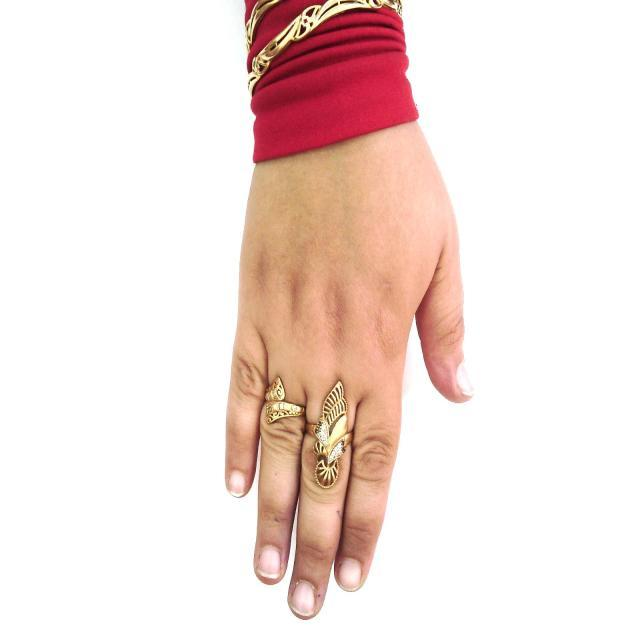Fingernail: (292, 582, 315, 615), (338, 560, 362, 591), (258, 547, 281, 578), (457, 364, 475, 395), (229, 471, 246, 495)
